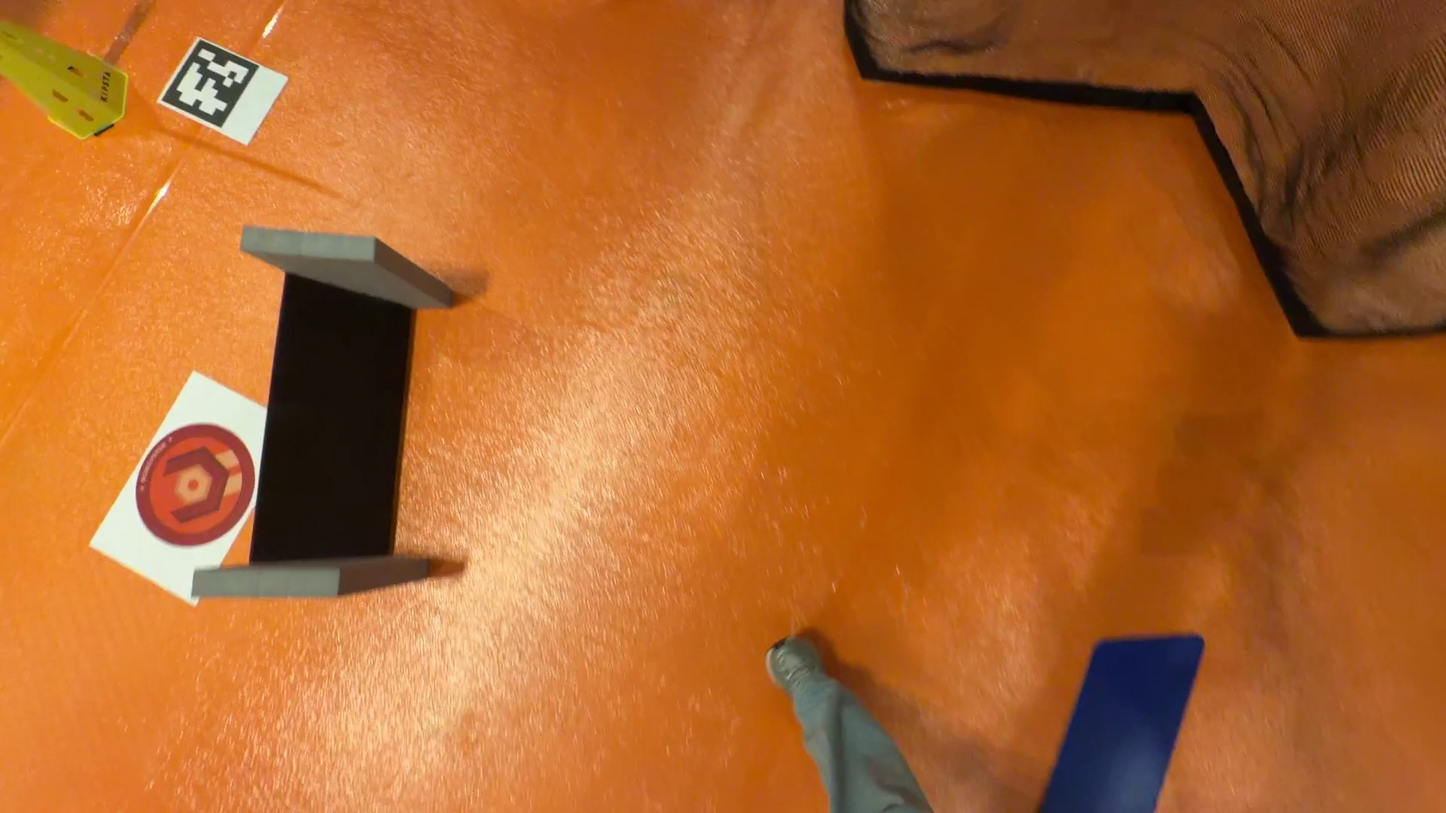landing_pad: (133, 419, 258, 552)
